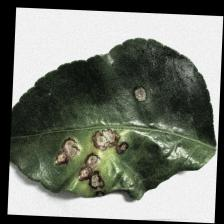canker: (44, 81, 152, 200)
